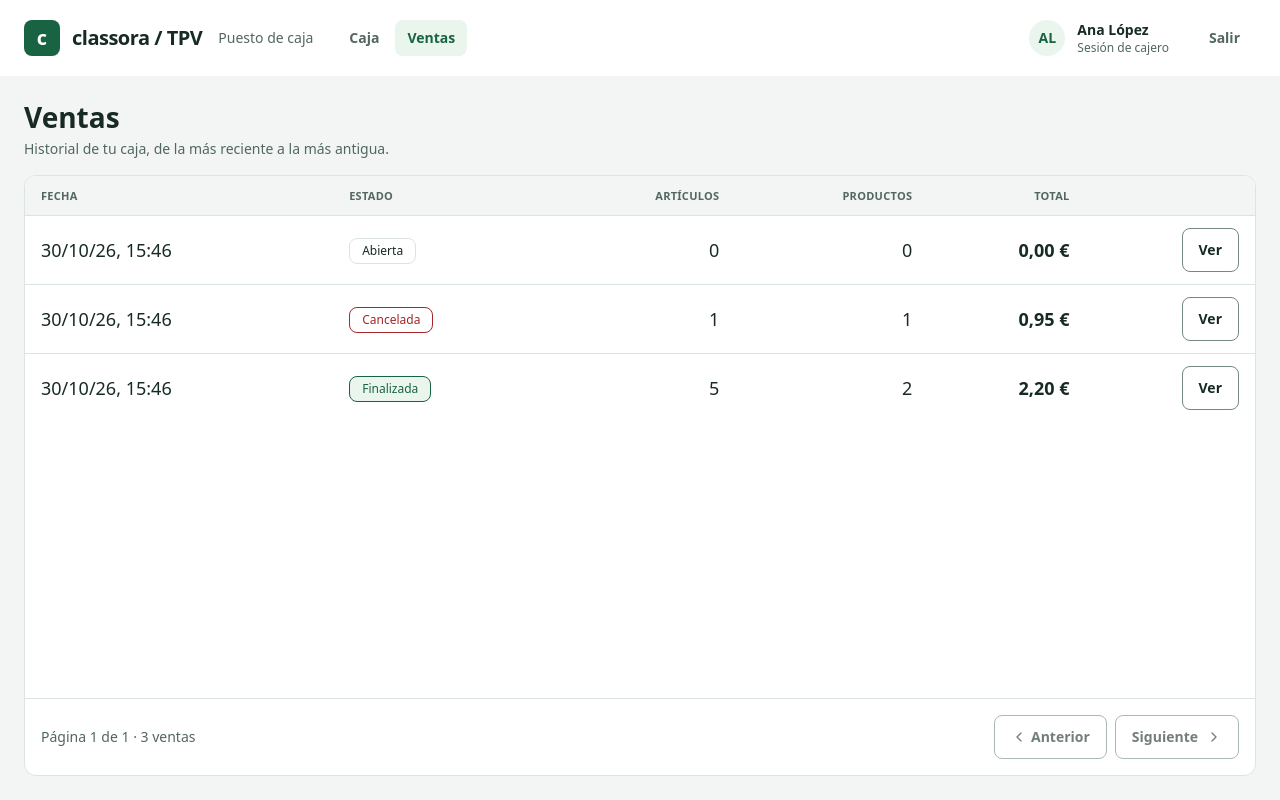
Test: Sales history: Screen Integration › should list the sales newest first and open the detail of one
Check: the table named "Ventas de la caja" is shown, box [25,176,1255,422]
What coordinates should you click on to do the following:
click the button with aria-label "Ver detalle"
I would click on:
 (1210, 388)
Its box is [1182,366,1239,410].
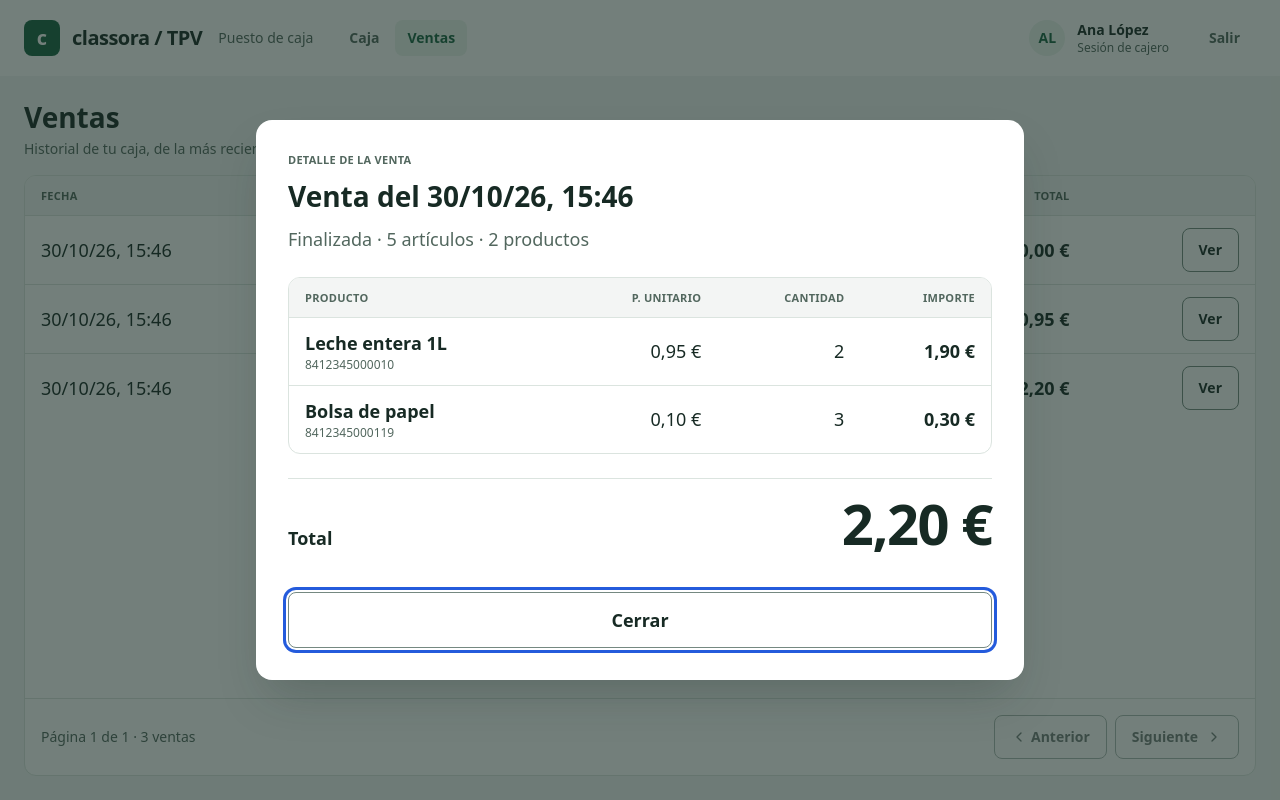
Check: the text "Leche entera 1L" is shown, box [305,331,447,355]
Check: the text "Bolsa de papel" is shown, box [305,399,435,423]
